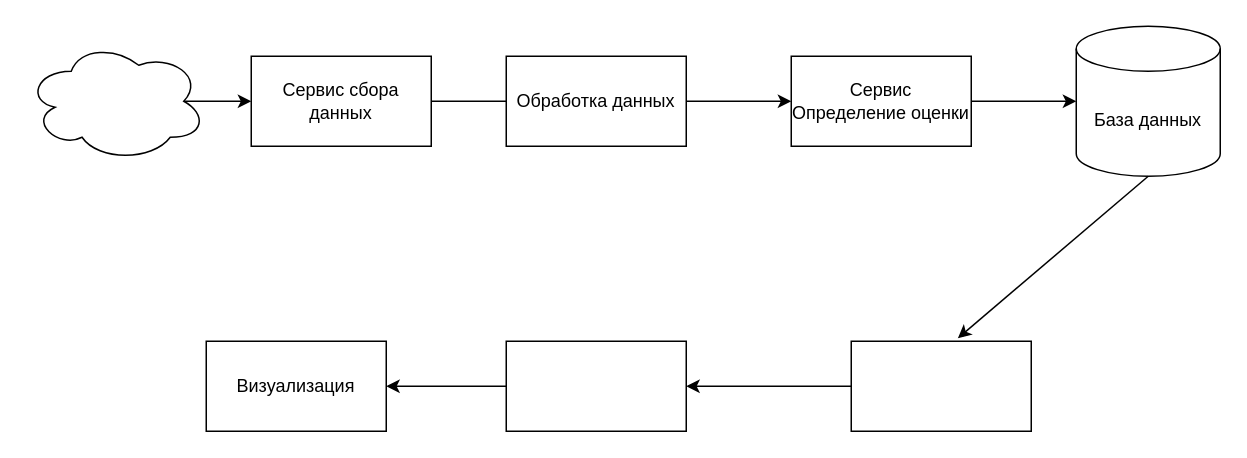
Image size: 1247x458. Some labels were removed from this diagram. Here are the shapes that lost their labels. From the top down, the box of each, then its label:
(25, 40, 206, 161): google карты yandex карты
(505, 340, 686, 431): Предобработка данных из бд
(850, 340, 1031, 431): Сервис связи бд с сайтом
